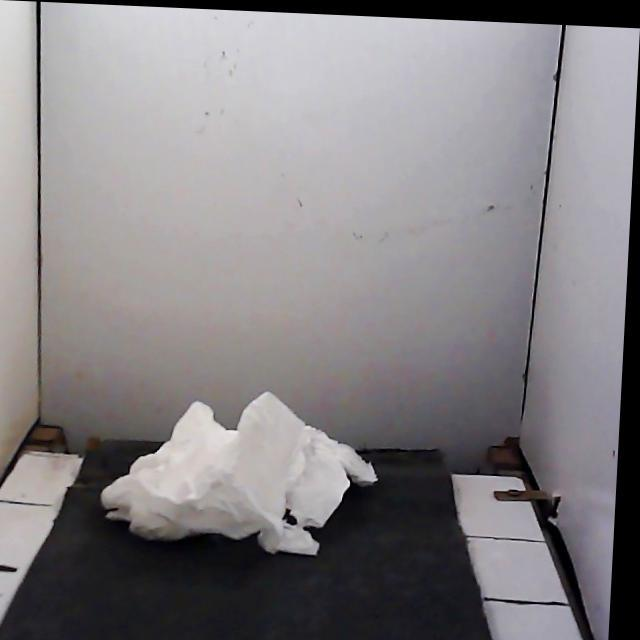papel: (101, 392, 376, 555)
